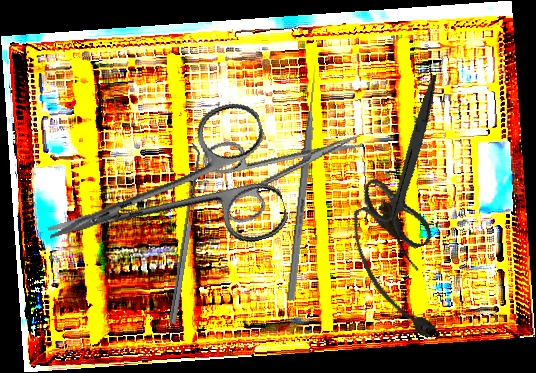Cannula: (343, 196, 446, 350)
Iris Scissors: (28, 96, 292, 296), (332, 73, 490, 260), (199, 102, 376, 230)
Pusher: (286, 64, 321, 301)
Spatula Surgical: (161, 143, 205, 324)
